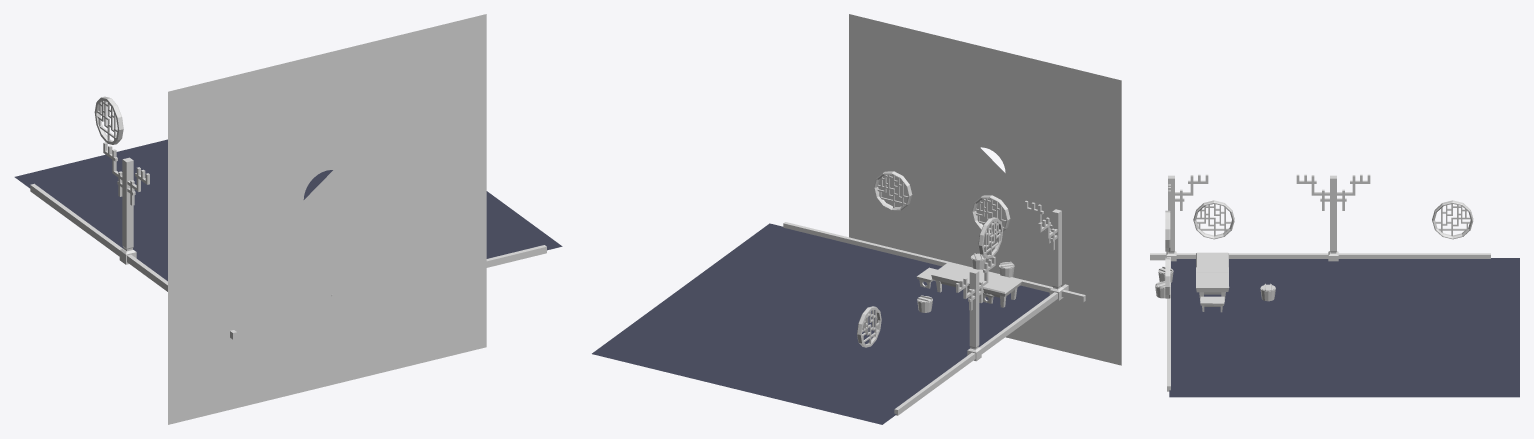
Rendered from window.fbx.
3 views of the same model, side by side, from view 1: azimuth 30°, elevation 25°; view 2: azimuth 150°, elevation 25°; view 3: azimuth 270°, elevation 25° (orthographic). The views are drawn at different scales.
Parts seen in each view (by area): view 1: Plane.001, Plane, Cube.004, Pillar.001, Window, Cube.005, Cube.006; view 2: Plane.001, Plane, Cube.006, Cube.004, Window, Windu, Pillar.001, Table, Pillar, Cube.001, Cube.005; view 3: Plane, Window, Cube.004, Cube.001, Table, Cube.005, Pillar.001, Pillar, Cube.006.
Boxes of the visible parts, left/top/right/bottom form: Plane.001: left=168, top=14, right=486, bottom=424; Plane: left=14, top=139, right=562, bottom=281; Cube.004: left=30, top=183, right=236, bottom=339; Pillar.001: left=119, top=157, right=136, bottom=264; Window: left=94, top=96, right=123, bottom=144; Cube.005: left=103, top=142, right=149, bottom=205; Cube.006: left=486, top=245, right=546, bottom=267; Plane.001: left=849, top=14, right=1121, bottom=365; Plane: left=592, top=223, right=1049, bottom=424; Cube.006: left=783, top=222, right=1085, bottom=302; Cube.004: left=894, top=284, right=1068, bottom=415; Window: left=857, top=217, right=1002, bottom=347; Windu: left=874, top=171, right=912, bottom=210; Pillar.001: left=967, top=269, right=981, bottom=361; Table: left=967, top=270, right=1021, bottom=307; Pillar: left=1049, top=209, right=1064, bottom=300; Cube.001: left=931, top=262, right=990, bottom=292; Cube.005: left=956, top=256, right=995, bottom=310; Plane: left=1169, top=258, right=1519, bottom=397; Window: left=1193, top=200, right=1473, bottom=239; Cube.004: left=1150, top=253, right=1490, bottom=260; Cube.001: left=1196, top=267, right=1229, bottom=302; Table: left=1196, top=252, right=1228, bottom=272; Cube.005: left=1296, top=174, right=1370, bottom=210; Pillar.001: left=1328, top=175, right=1338, bottom=261; Pillar: left=1166, top=175, right=1176, bottom=261; Cube.006: left=1167, top=257, right=1170, bottom=391.
Size of the model in its own units: 1603 by 1267 by 1514.
